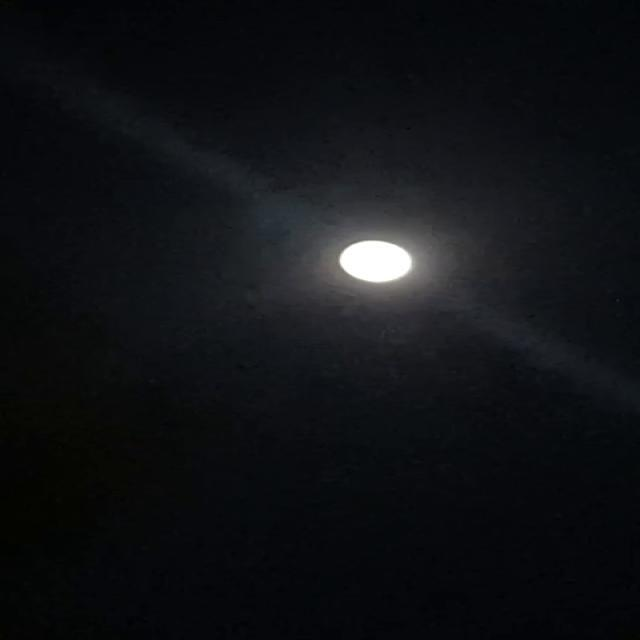moon: (320, 234, 436, 292)
